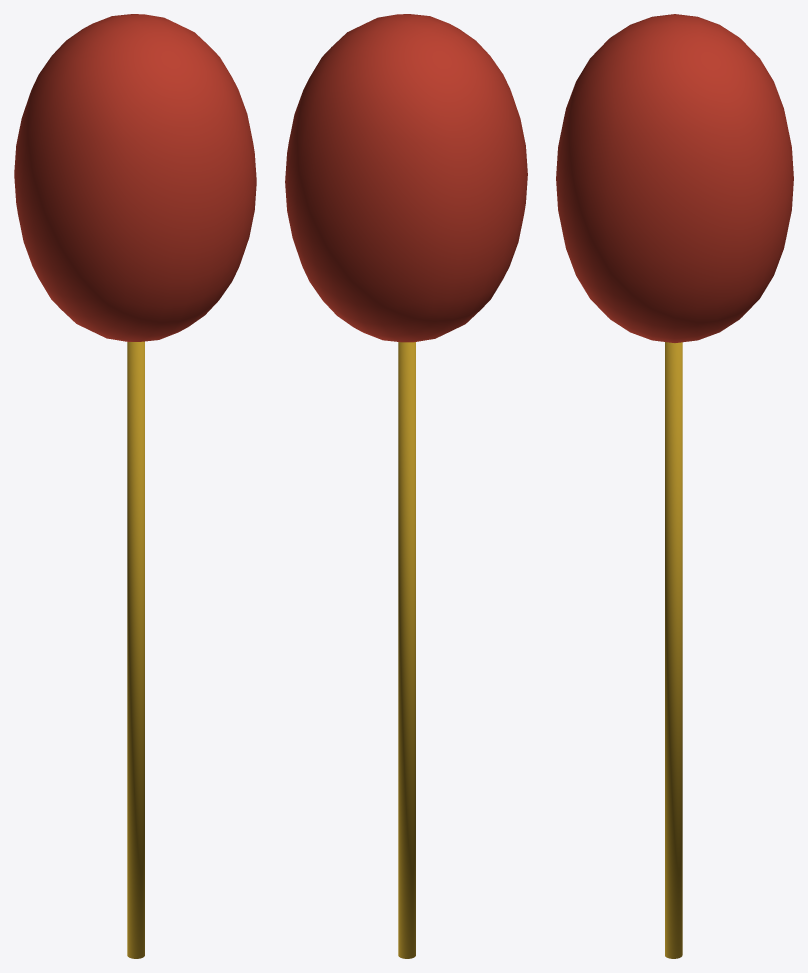
Rendered from ballons.fbx.
3 renders of one model, left to right at view 1: azimuth 30°, elevation 25°; view 2: azimuth 150°, elevation 25°; view 3: azimuth 270°, elevation 25°, orthographic.
Visible parts, largest first — view 1: Cube.001, Cylinder; view 2: Cube.001, Cylinder; view 3: Cube.001, Cylinder.
Boxes of the visible parts, x1,y1,x2,y2 form: Cube.001: (14, 14, 256, 341); Cylinder: (127, 341, 144, 958); Cube.001: (285, 14, 527, 342); Cylinder: (398, 342, 415, 958); Cube.001: (556, 14, 793, 342); Cylinder: (665, 342, 682, 958).
Size of the model in its own units: 168 by 726 by 168.
